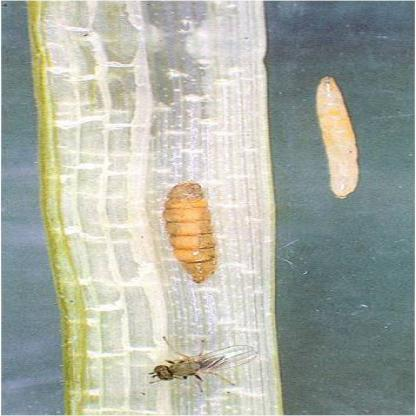whorl-maggot: (302, 71, 368, 206), (162, 178, 230, 292)
